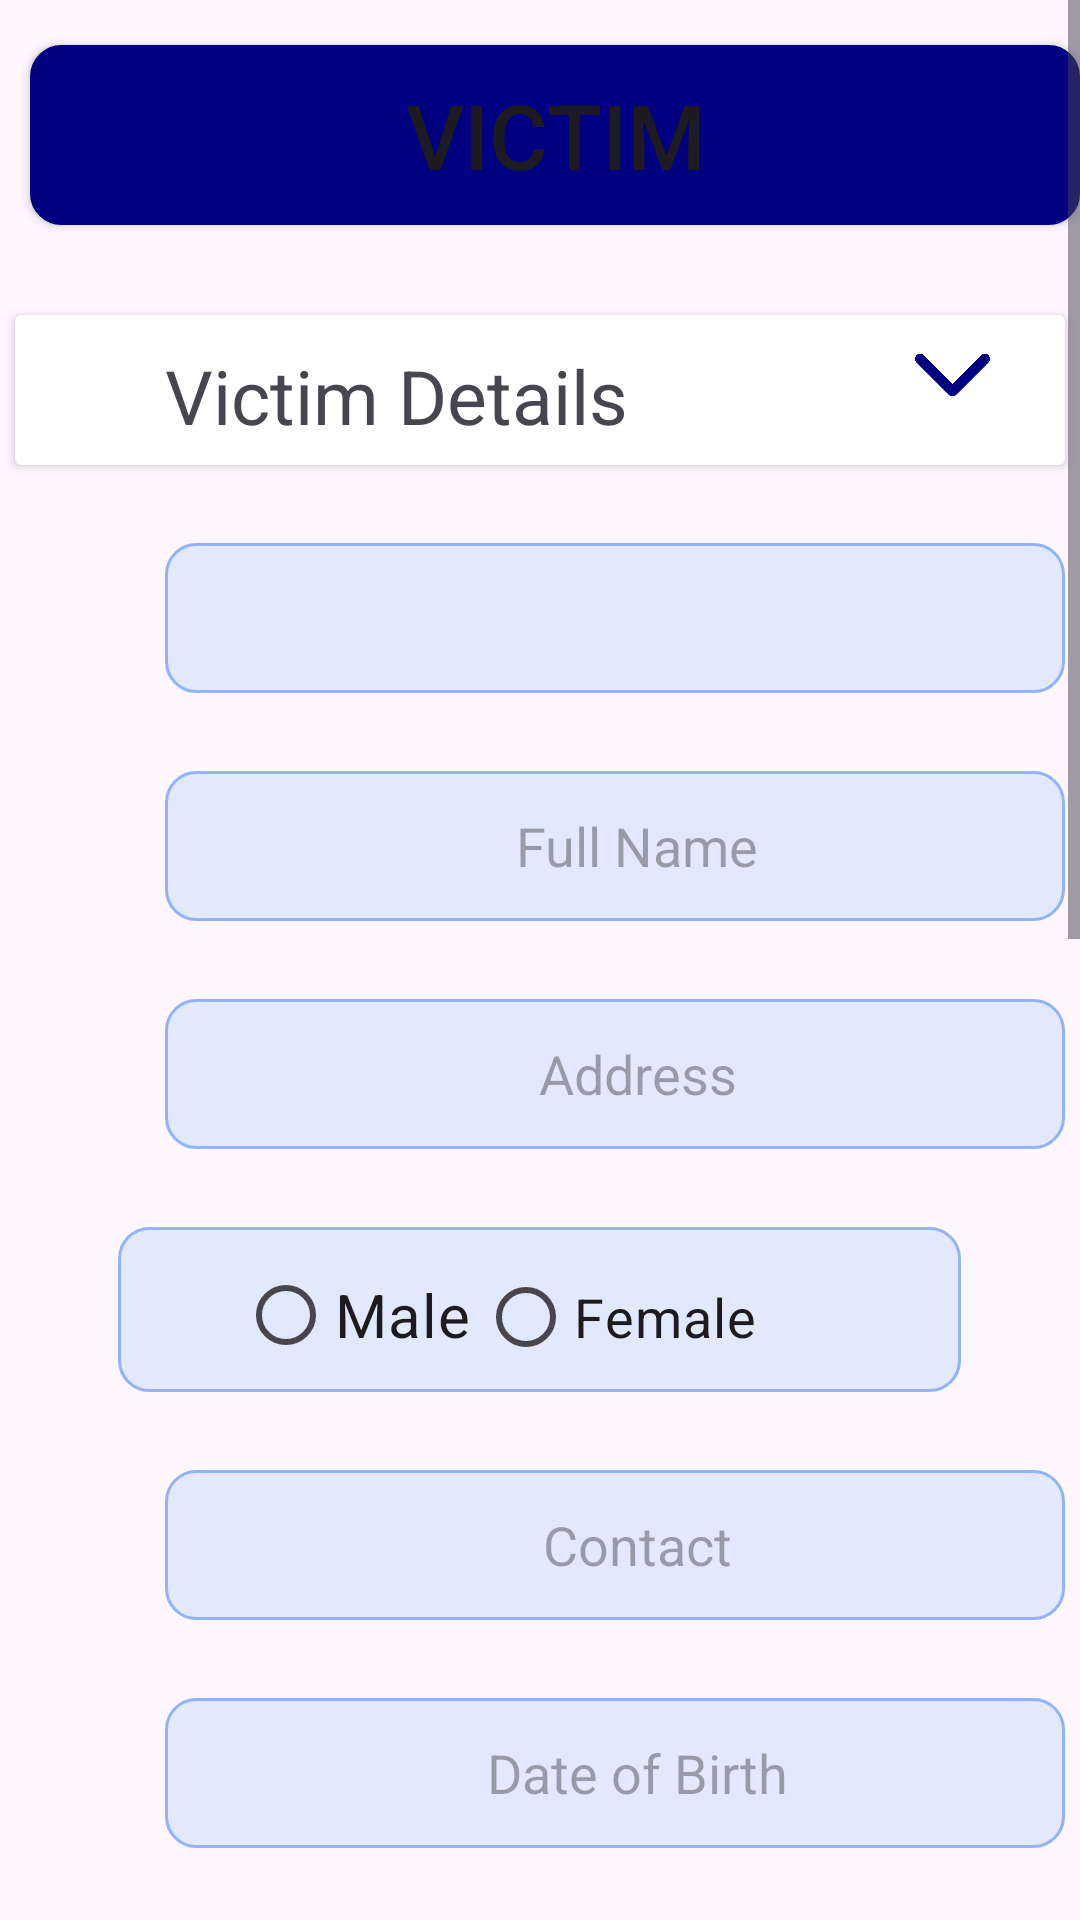

Icon click points for this 1080 x 1920 phone screenshot, format point (x, y):
down arrow: point (952, 375)
